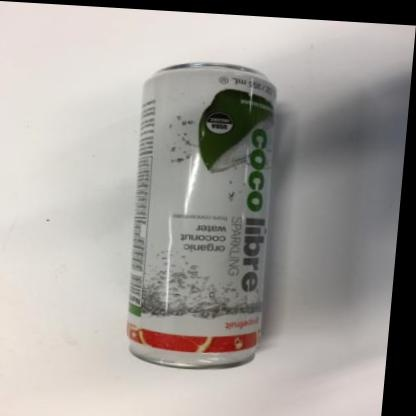trash: (128, 63, 275, 366)
